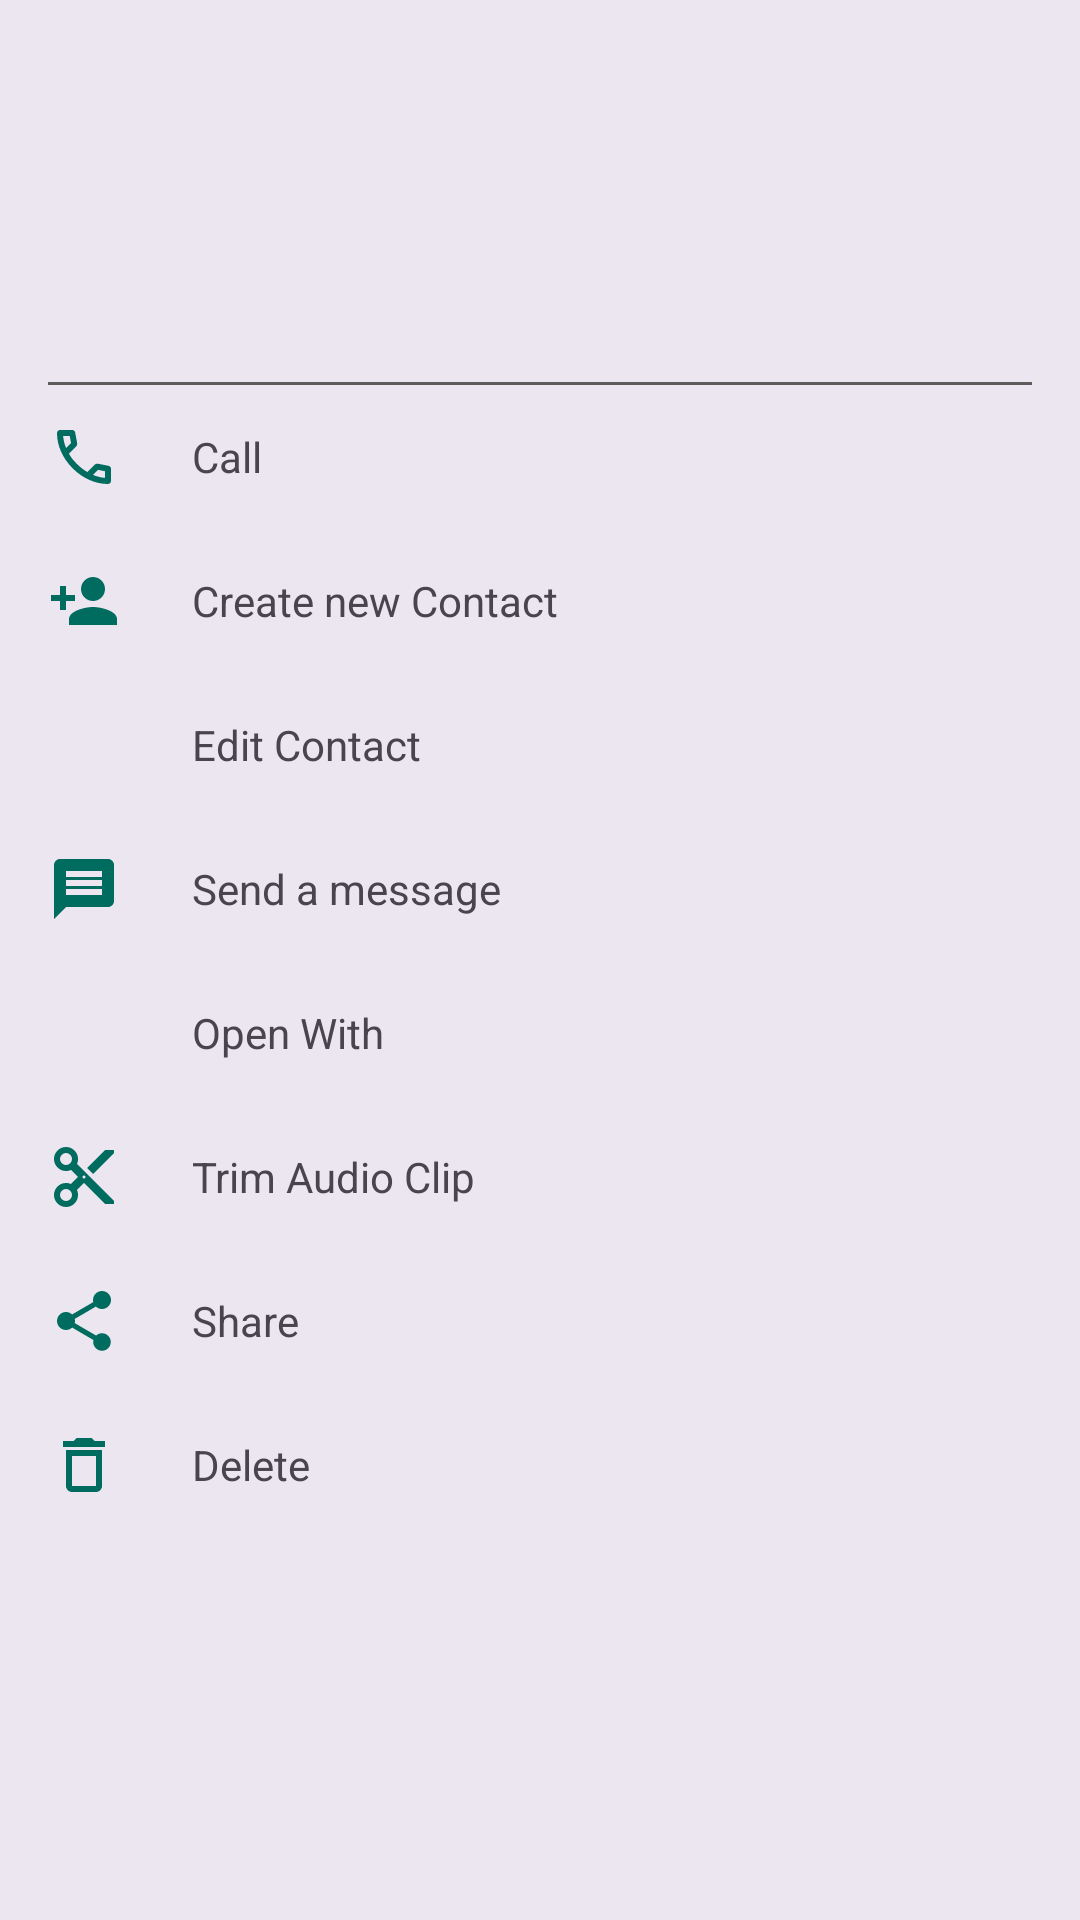

Where icons sit on this 1080w x 1920h app screen, as (x1, y1, x2, y2):
add contact: (51, 577, 117, 625)
